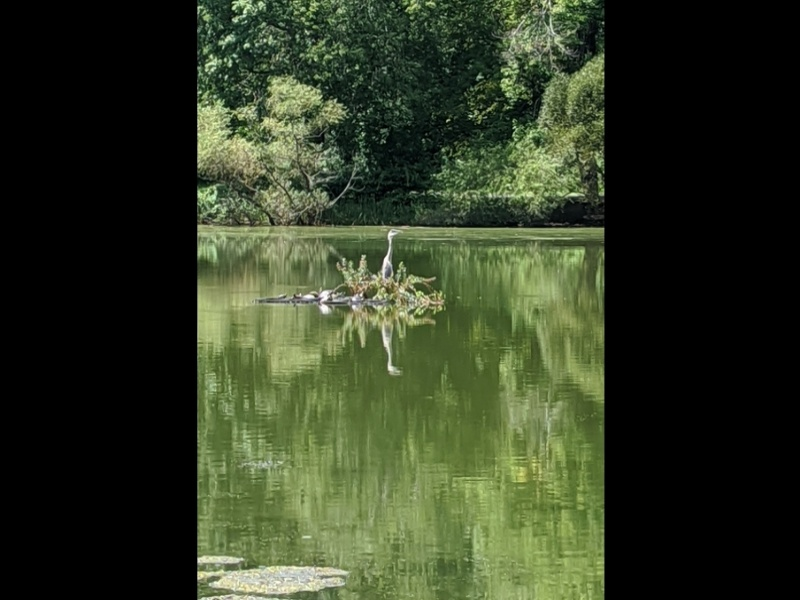heron: (374, 226, 403, 287)
